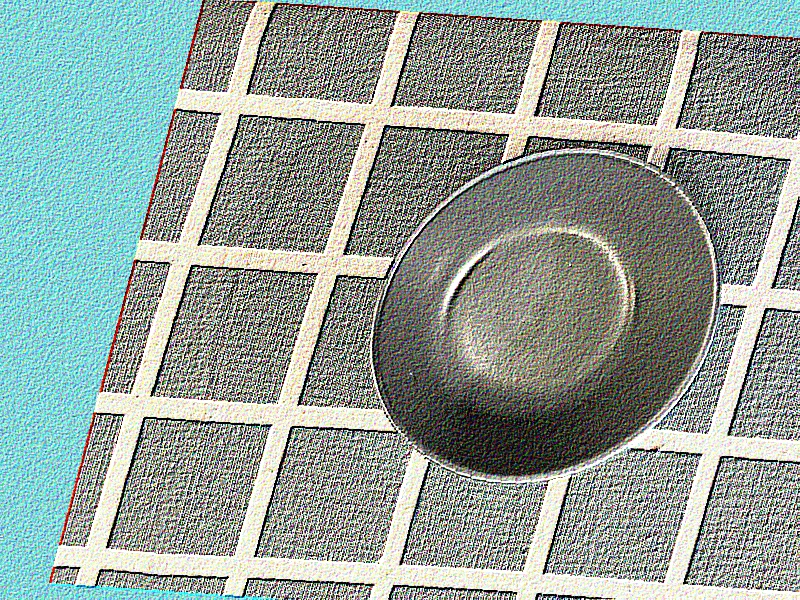bowl_big: (321, 123, 786, 502)
